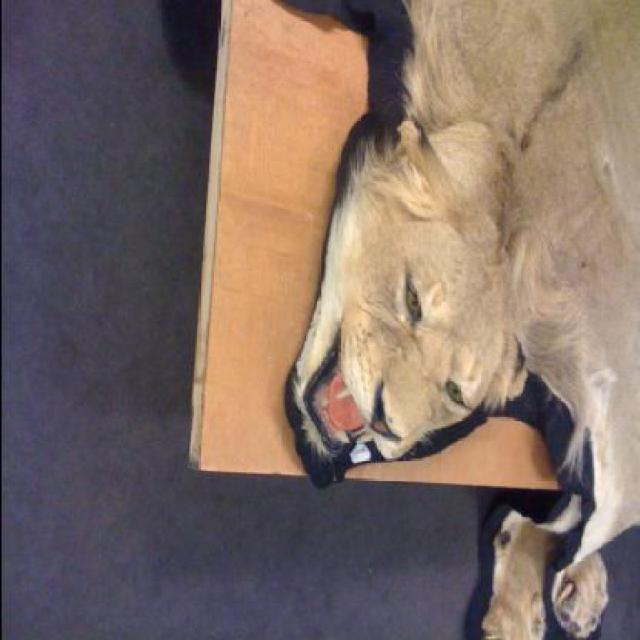Lion: (192, 1, 632, 632)
